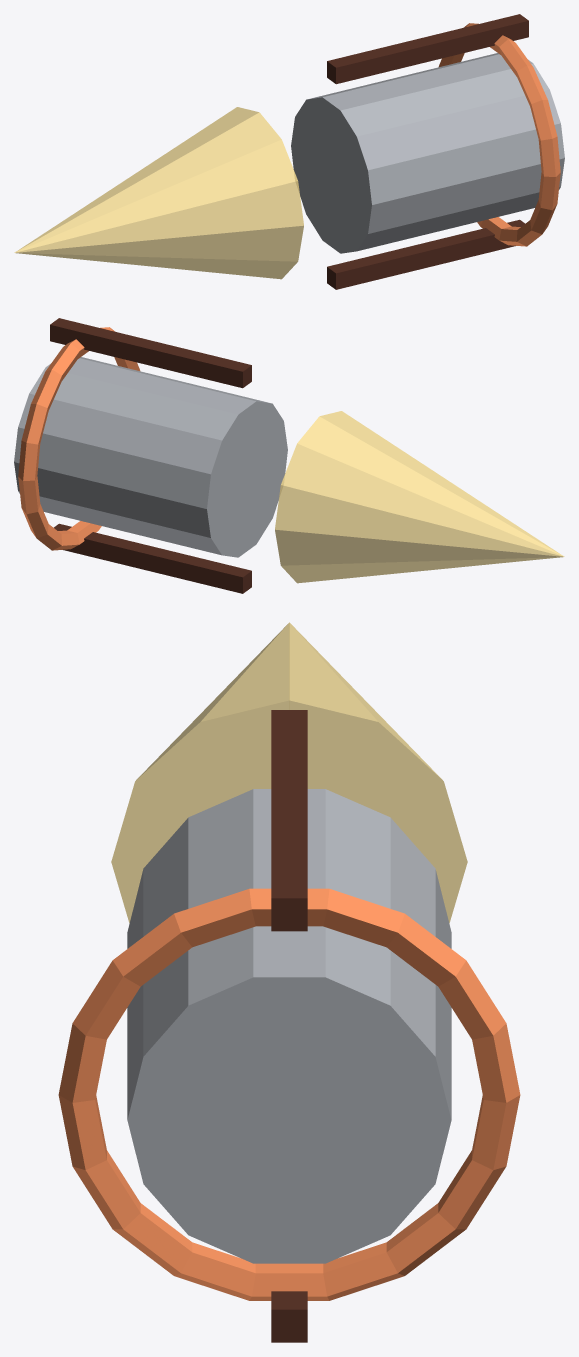
Rendered from 06_skyship_engine.glb.
The picture shows the model from 3 angles, top to bottom: view 1: azimuth 30°, elevation 25°; view 2: azimuth 150°, elevation 25°; view 3: azimuth 270°, elevation 25°; orthographic projection. The views are drawn at different scales.
Visible parts, largest first — view 1: engine_core, thruster_plume, engine_ring, mount_strut_r, mount_strut_l; view 2: engine_core, thruster_plume, engine_ring, mount_strut_r, mount_strut_l; view 3: engine_core, engine_ring, thruster_plume, mount_strut_r, mount_strut_l.
Part boxes in pixels (x1,y1,x2,y2): engine_core: (291, 53, 564, 253); thruster_plume: (14, 107, 303, 279); engine_ring: (438, 23, 560, 246); mount_strut_r: (327, 14, 528, 84); mount_strut_l: (327, 219, 524, 289); engine_core: (14, 357, 287, 557); thruster_plume: (275, 411, 564, 583); engine_ring: (18, 327, 140, 550); mount_strut_r: (50, 318, 251, 388); mount_strut_l: (54, 523, 251, 593); engine_core: (127, 789, 451, 1263); engine_ring: (58, 888, 520, 1300); thruster_plume: (111, 622, 467, 923); mount_strut_r: (271, 710, 307, 931); mount_strut_l: (271, 1291, 307, 1342).
Bounding box in the file's own units: 3.49 × 1.45 × 1.37.
